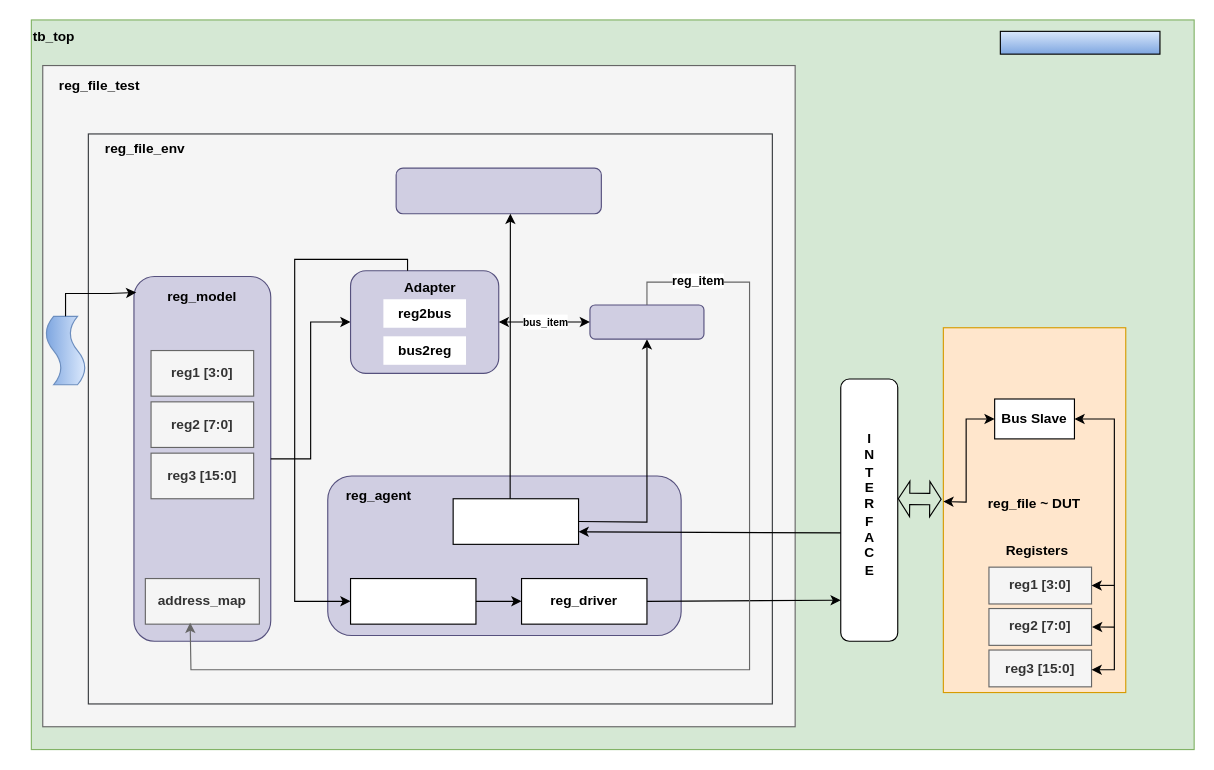
Image size: 1214x770. Some labels were removed from this diagram. The shapes that lost their labels are listed below. From the top down, each one's box as (x1, y1, x2, y2) in pixels, then its label:
(999, 30, 1160, 54): uvm_config_db
(395, 167, 601, 214): scoreboard
(589, 304, 704, 339): Predictor
(44, 315, 85, 385): reg_seq
(452, 498, 579, 544): reg_monitor
(349, 577, 476, 624): reg_sequencer
